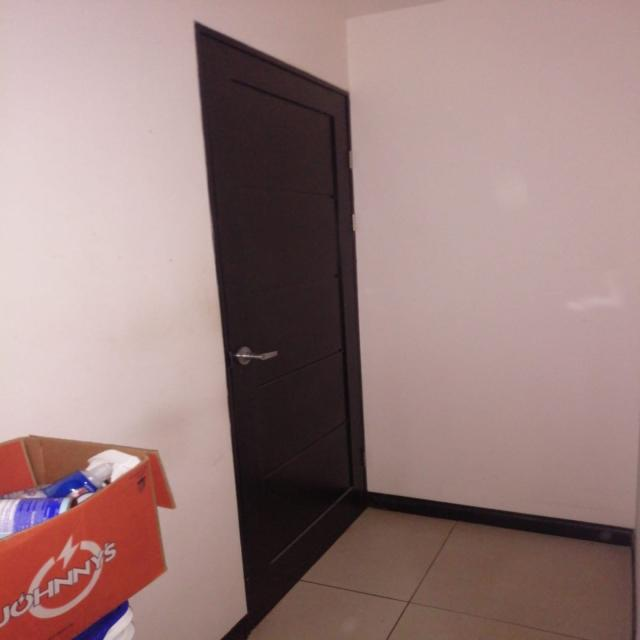ClosedDoor: (207, 21, 390, 613)
